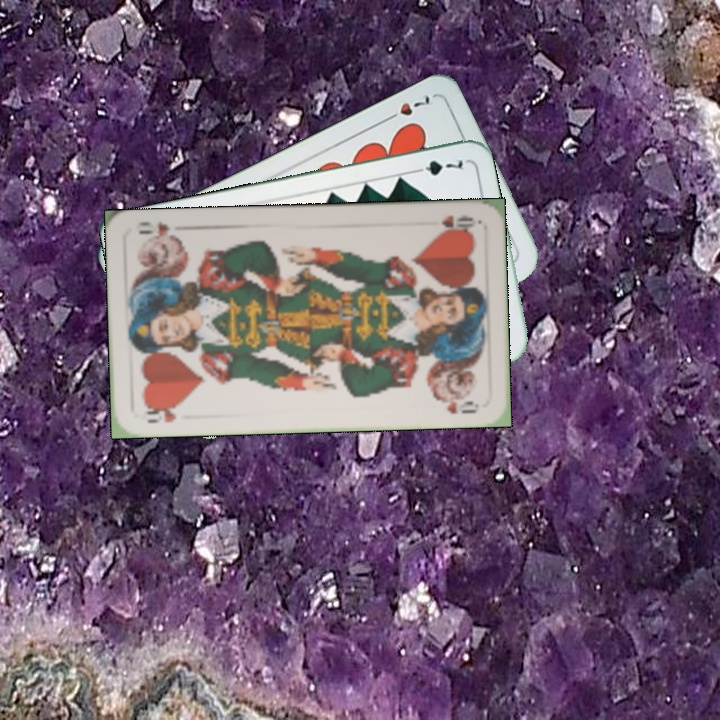G7: (408, 155, 466, 178)
H7: (380, 90, 433, 125)
HO: (140, 401, 184, 426), (435, 211, 479, 234)
